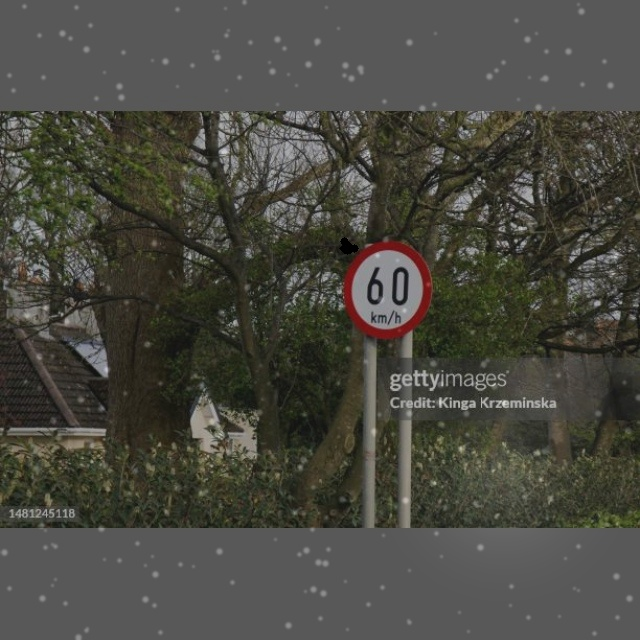Speed_Limit_60: (339, 240, 431, 344)
